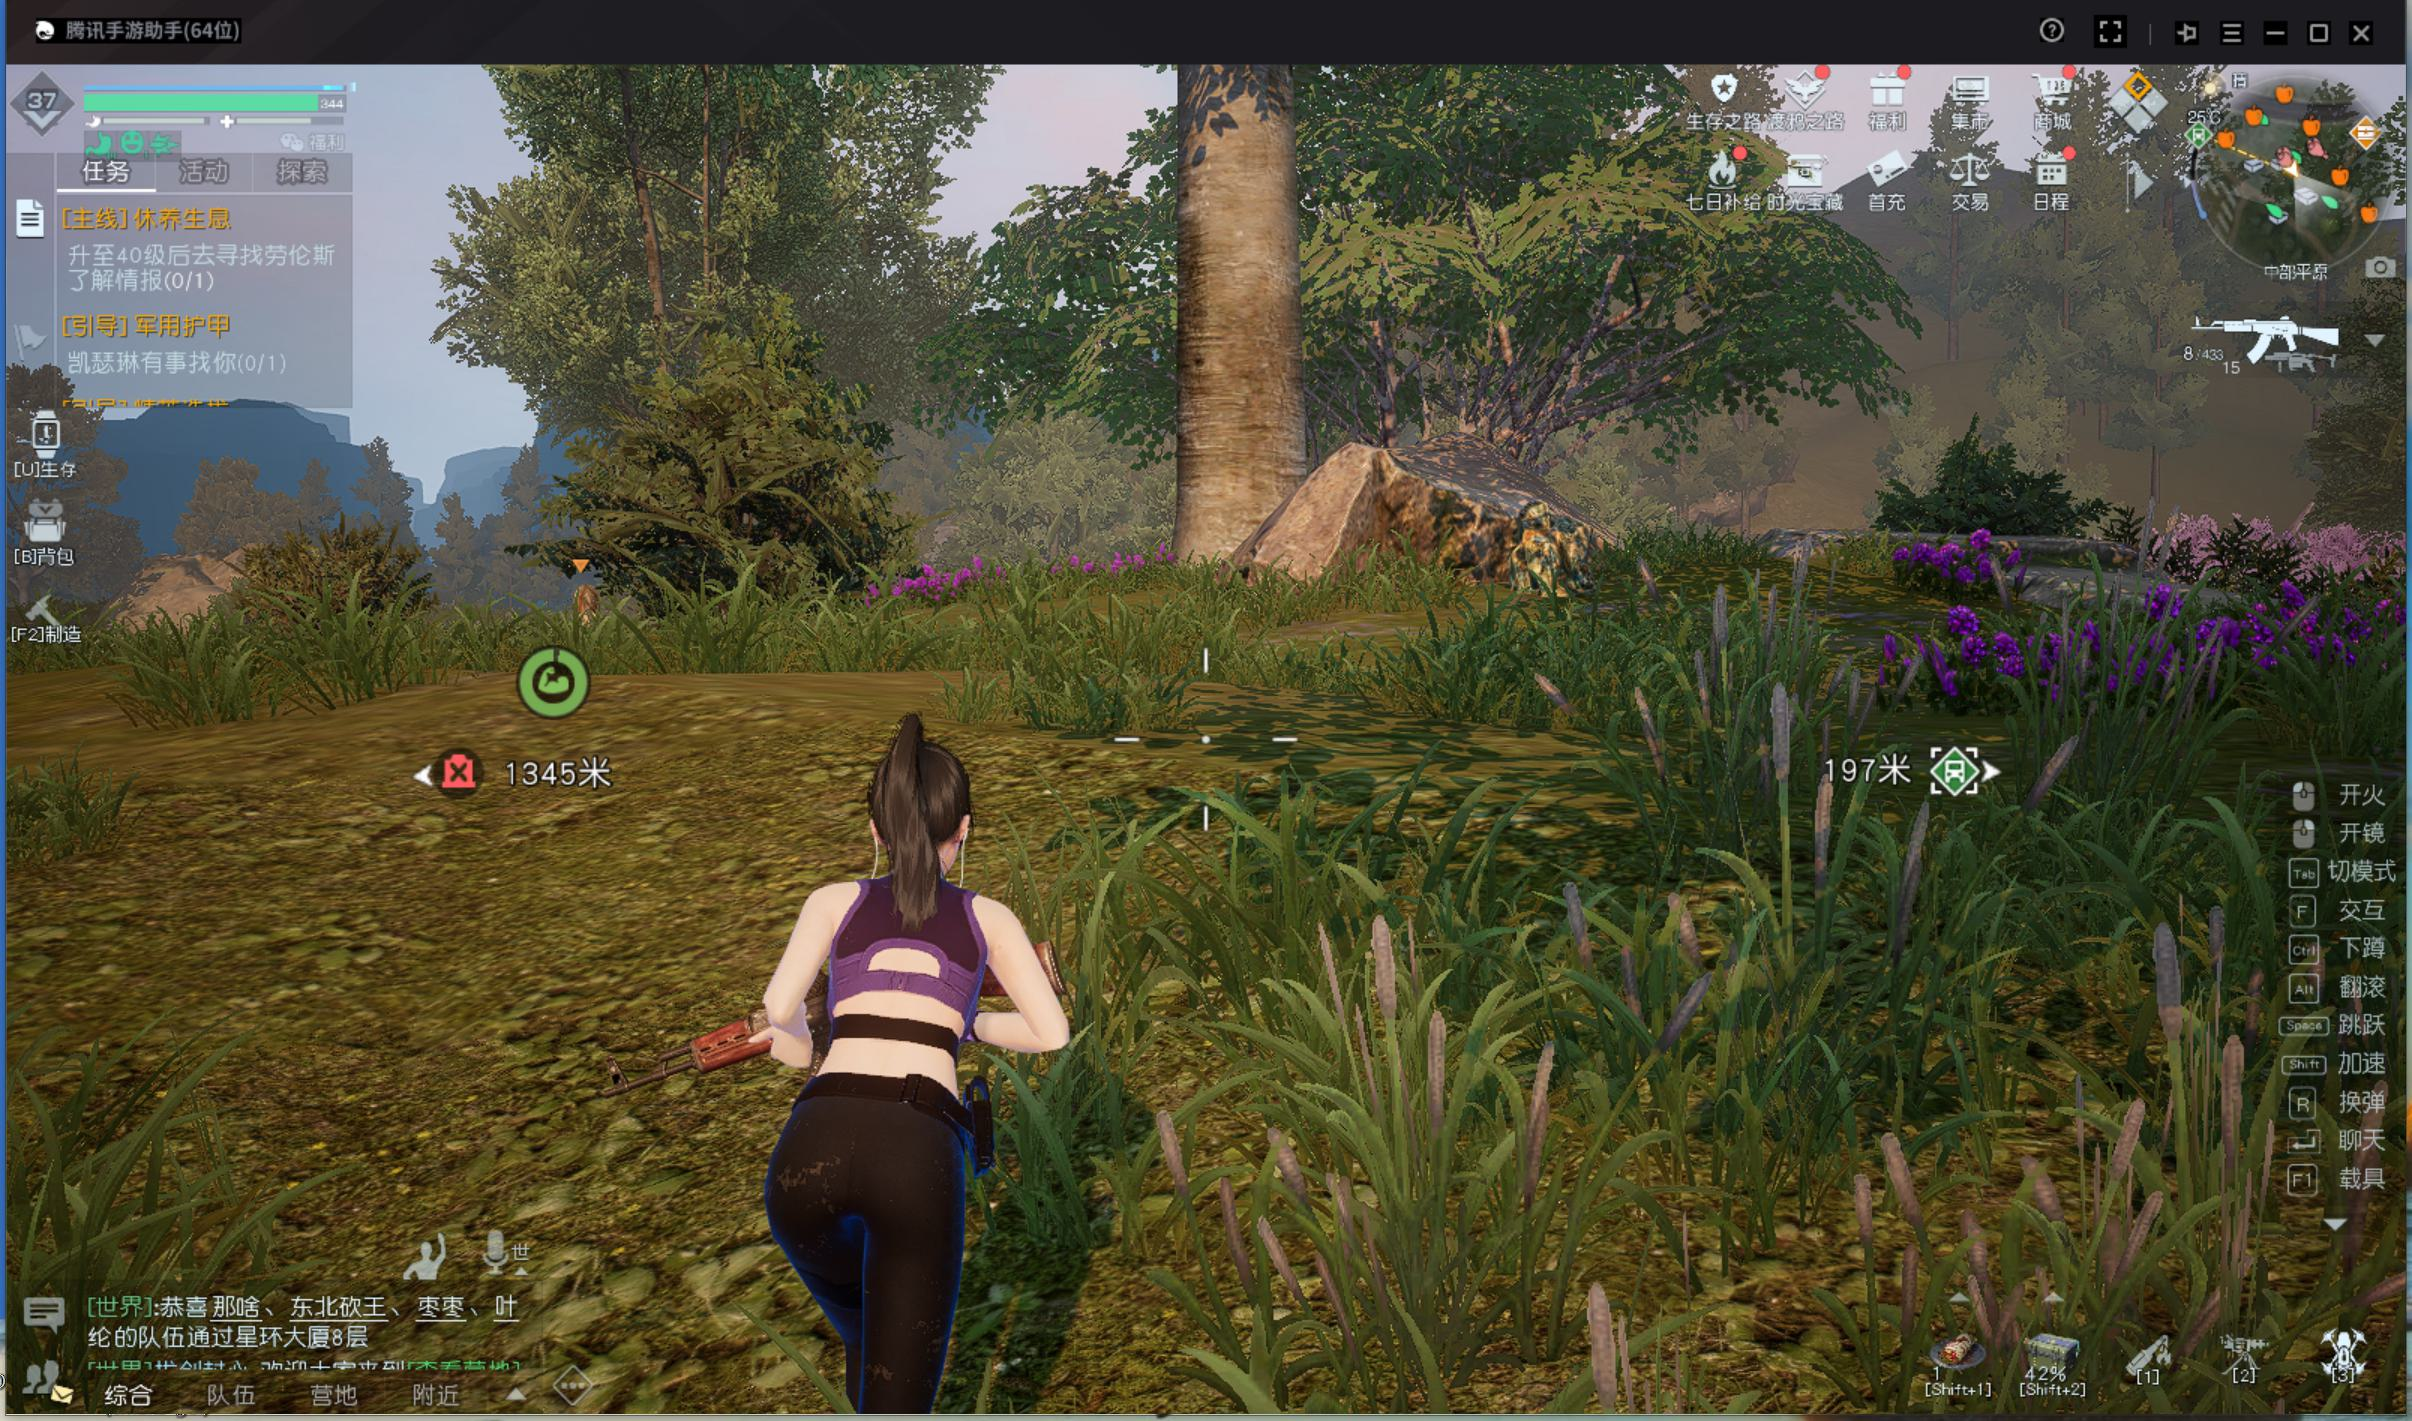stone: (1495, 484, 1607, 619)
tree: (1159, 140, 1328, 597)
